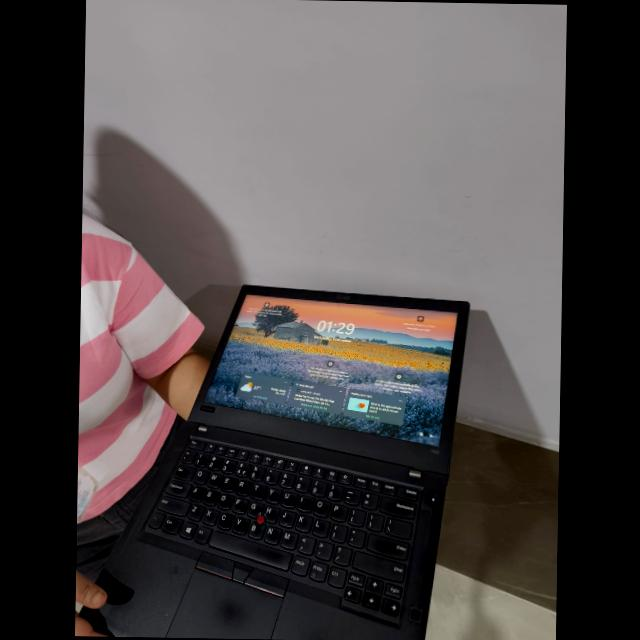laptop: (105, 271, 479, 640)
